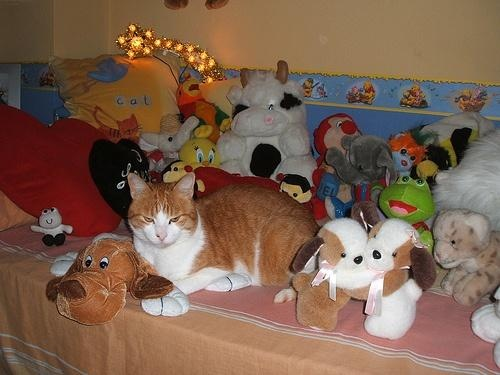cat: (128, 174, 321, 296)
